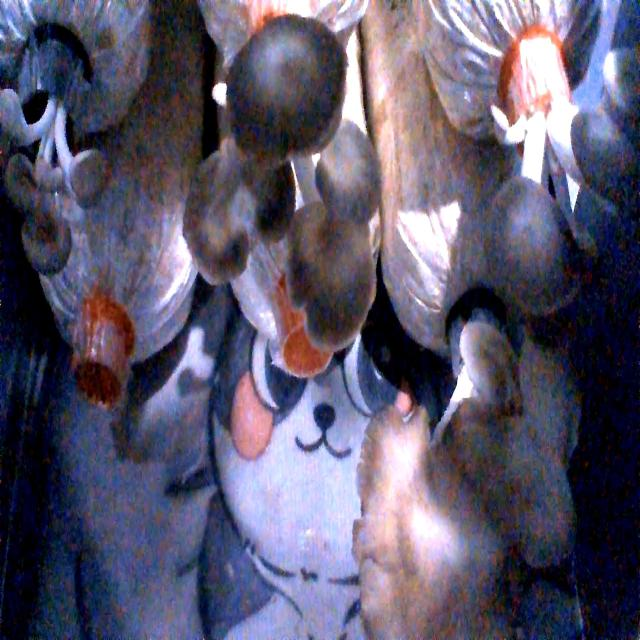big: (329, 335, 593, 640), (190, 37, 387, 352), (485, 36, 640, 305)
nfound: (64, 319, 152, 434)
small: (0, 94, 120, 273)
